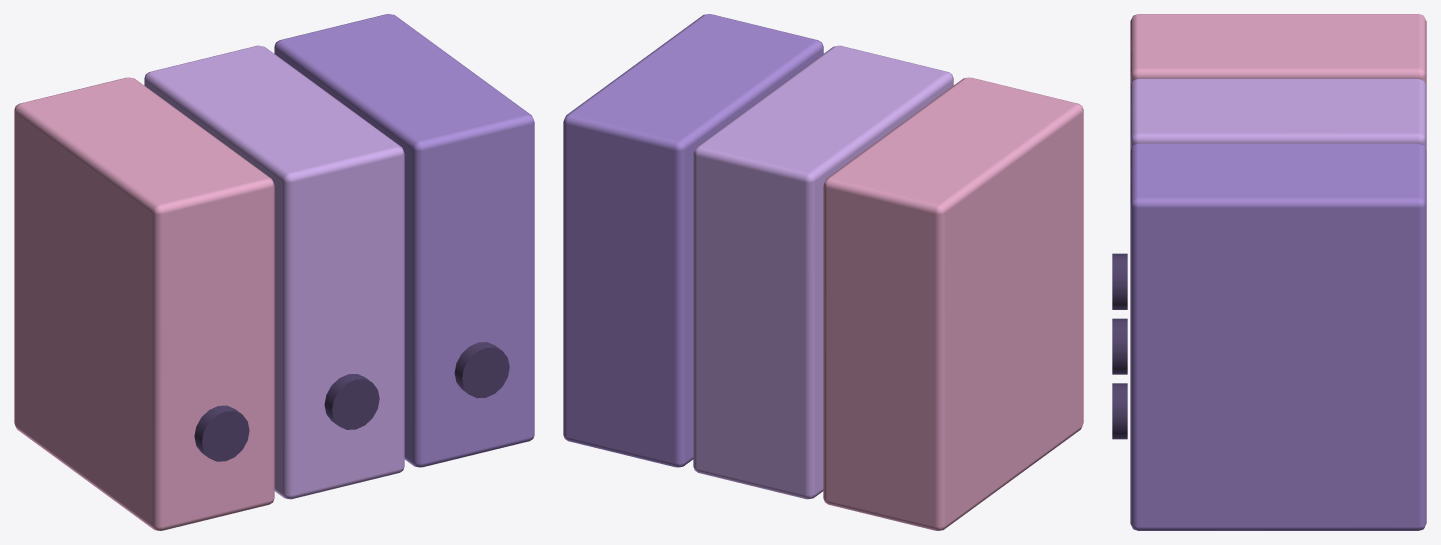
Rendered from office-binders.glb.
The picture shows the model from 3 angles, left to right: view 1: azimuth 30°, elevation 25°; view 2: azimuth 150°, elevation 25°; view 3: azimuth 270°, elevation 25°; orthographic projection. The views are drawn at different scales.
Visible parts, largest first — view 1: binder-0, binder-2, binder-1, ring-0, ring-1, ring-2; view 2: binder-0, binder-1, binder-2; view 3: binder-2, binder-1, binder-0, ring-0, ring-1, ring-2.
Part boxes in pixels (x1=…): binder-0: x1=14, y1=77, x2=274, y2=530; binder-2: x1=274, y1=14, x2=534, y2=467; binder-1: x1=144, y1=45, x2=404, y2=499; ring-0: x1=194, y1=405, x2=249, y2=461; ring-1: x1=324, y1=374, x2=379, y2=429; ring-2: x1=454, y1=342, x2=509, y2=398; binder-0: x1=823, y1=77, x2=1083, y2=530; binder-1: x1=693, y1=45, x2=953, y2=499; binder-2: x1=563, y1=14, x2=823, y2=467; binder-2: x1=1130, y1=143, x2=1426, y2=530; binder-1: x1=1130, y1=78, x2=1426, y2=150; binder-0: x1=1130, y1=14, x2=1426, y2=85; ring-0: x1=1112, y1=253, x2=1127, y2=309; ring-1: x1=1112, y1=318, x2=1127, y2=374; ring-2: x1=1112, y1=383, x2=1127, y2=439.
Bounding box in the file's own units: 0.88 × 0.72 × 0.615.
